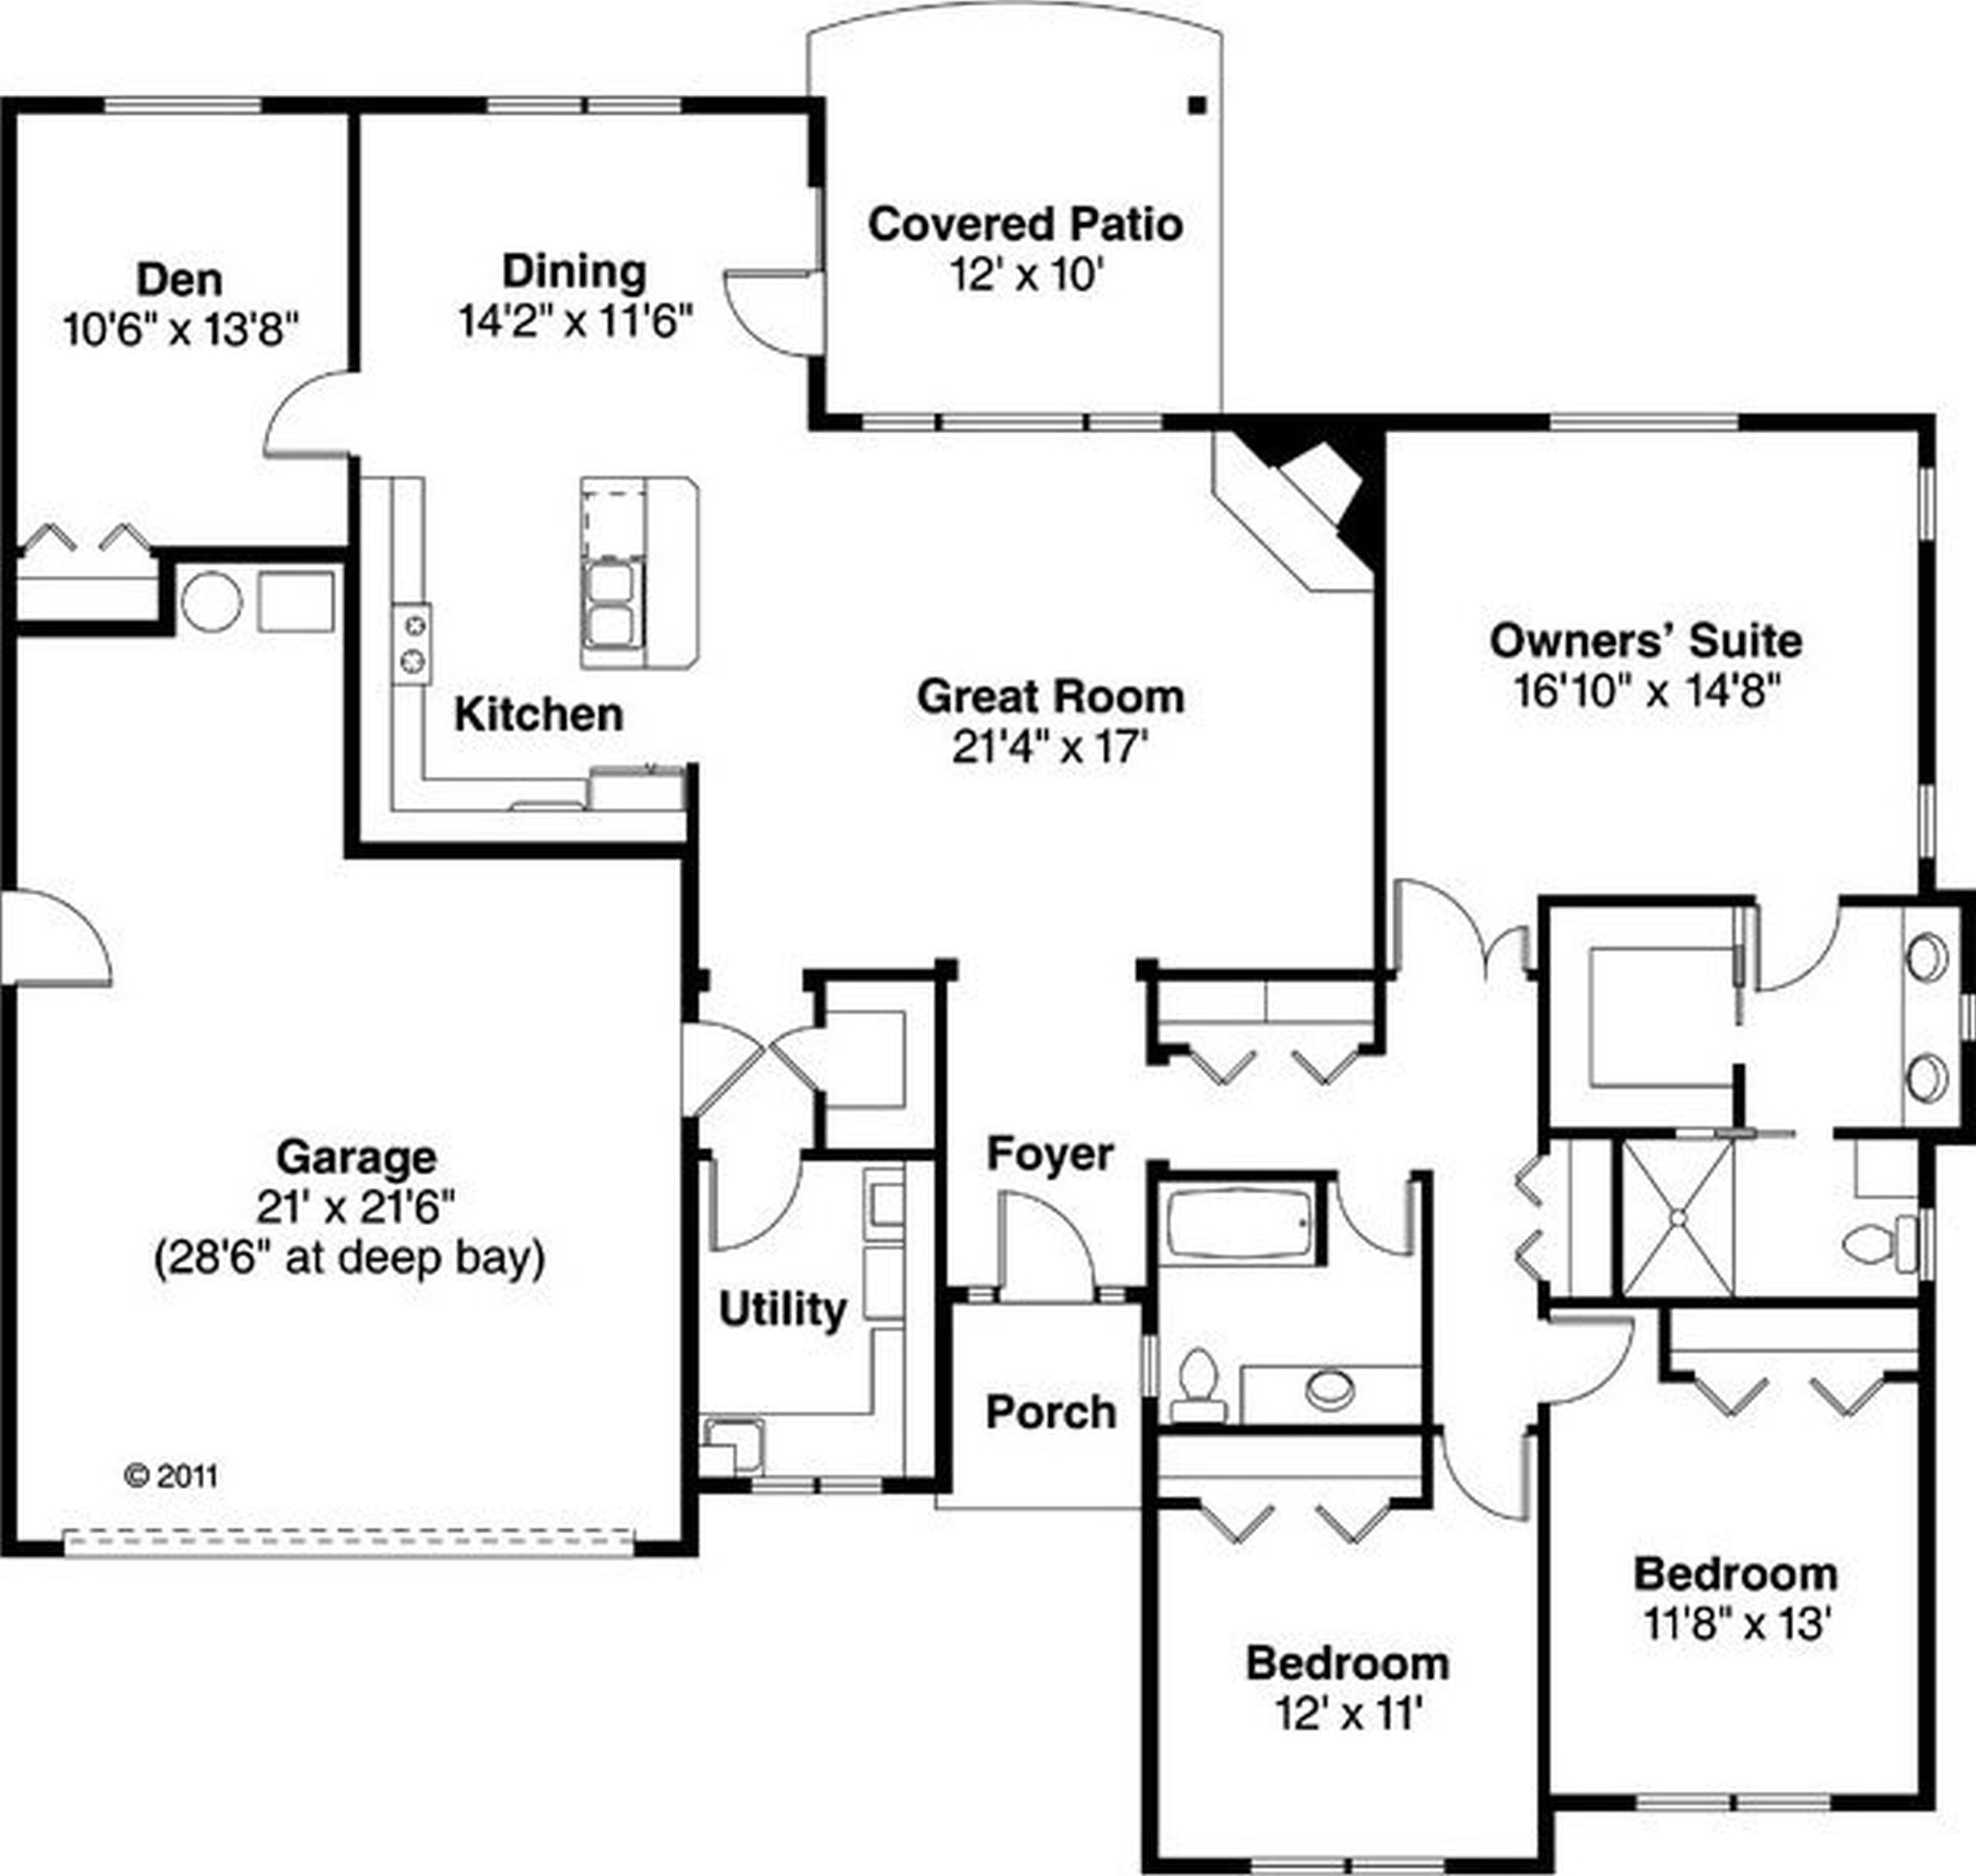wall: (0, 102, 16, 897), (679, 1121, 702, 1562), (4, 989, 21, 1560), (929, 968, 947, 1493), (1544, 1291, 1935, 1314), (347, 464, 368, 864), (1930, 1289, 1944, 1818), (1537, 1409, 1551, 1876), (1148, 1418, 1438, 1439), (1750, 409, 1948, 439), (1148, 1407, 1160, 1876), (342, 95, 361, 370), (1920, 538, 1941, 786), (1174, 411, 1572, 423), (4, 615, 178, 640), (1140, 1162, 1165, 1336), (354, 836, 700, 848), (1419, 1171, 1431, 1516), (1156, 964, 1394, 982), (1151, 1157, 1345, 1178), (268, 95, 508, 111), (1606, 1120, 1627, 1299), (687, 95, 839, 118), (1534, 1123, 1680, 1144), (800, 964, 943, 986), (687, 767, 698, 1033), (1144, 964, 1169, 1074), (11, 90, 108, 115), (1844, 889, 1976, 906), (1835, 1790, 1925, 1814), (1447, 1853, 1542, 1876), (1375, 437, 1378, 1051), (807, 99, 828, 196), (1539, 1795, 1636, 1816), (1548, 926, 1556, 1144), (1160, 1853, 1239, 1876), (804, 1148, 950, 1160), (162, 548, 361, 557), (157, 548, 178, 624), (809, 351, 830, 427), (1844, 1128, 1972, 1141), (1958, 896, 1976, 984), (1655, 1305, 1673, 1384), (813, 406, 865, 430), (809, 1090, 828, 1157), (1964, 1037, 1976, 1137), (1537, 901, 1766, 906), (1923, 855, 1946, 901), (1320, 1169, 1333, 1254), (5, 621, 9, 876), (636, 1537, 687, 1552), (816, 971, 821, 1030), (1886, 1372, 1913, 1379)
